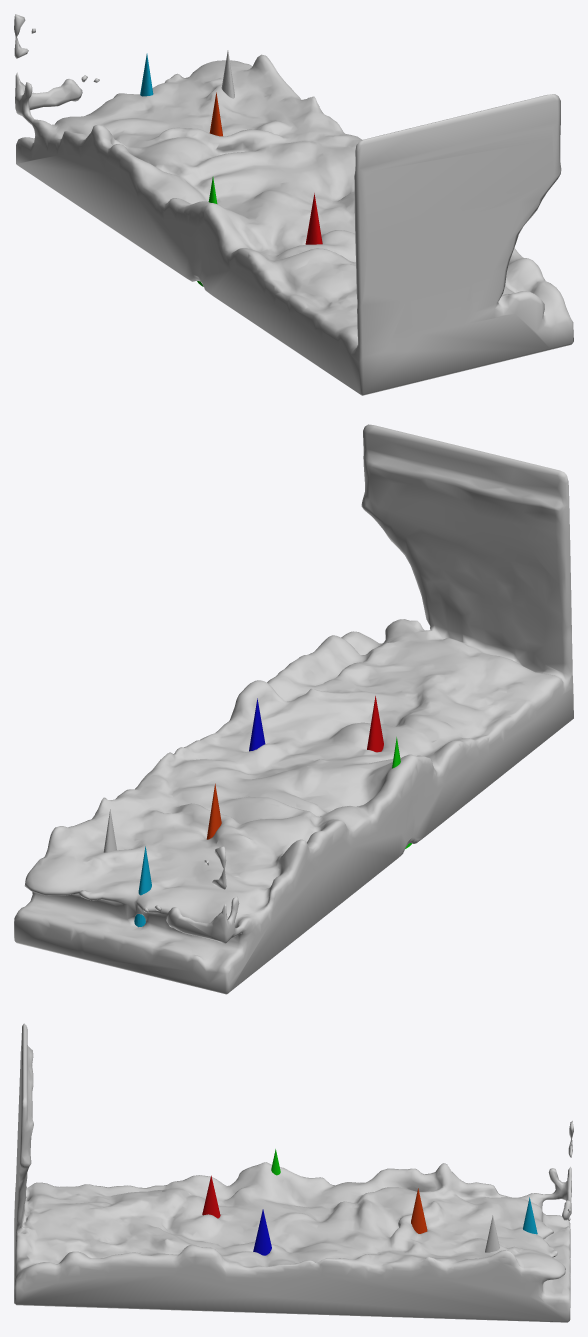
The picture shows the model from 3 angles, top to bottom: view 1: azimuth 30°, elevation 25°; view 2: azimuth 150°, elevation 25°; view 3: azimuth 270°, elevation 25°; orthographic projection. The views are drawn at different scales.
Visible parts, largest first — view 1: Liquid_Domain, 円錐.001; view 2: Liquid_Domain; view 3: Liquid_Domain, 円錐.002, 円錐.004, 円錐.001.
Part boxes in pixels (left/top/right/bottom): Liquid_Domain: left=14, top=14, right=573, bottom=395; 円錐.001: left=305, top=193, right=322, bottom=244; Liquid_Domain: left=14, top=424, right=573, bottom=994; Liquid_Domain: left=14, top=1023, right=573, bottom=1322; 円錐.002: left=253, top=1209, right=271, bottom=1255; 円錐.004: left=411, top=1188, right=427, bottom=1233; 円錐.001: left=202, top=1175, right=220, bottom=1218.
Size of the model in its own units: 129 by 158 by 363.
